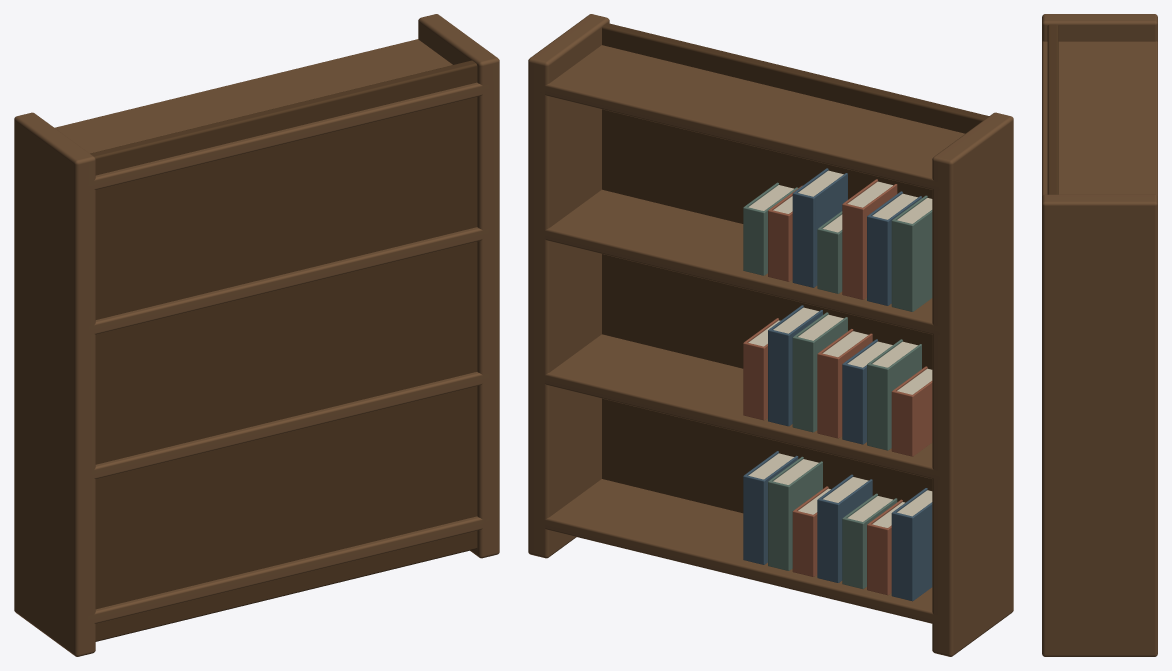
The model's file is bookshelf.glb.
3 renders of one model, left to right at view 1: azimuth 30°, elevation 25°; view 2: azimuth 150°, elevation 25°; view 3: azimuth 270°, elevation 25°, orthographic. The views are drawn at different scales.
Parts seen in each view (by area): view 1: Recessed back, Side, Shelf.003, Side.001, Shelf.002, Shelf, Shelf.001; view 2: Recessed back, Side, Side.001, Shelf.003, Shelf.002, Shelf.001, Shelf, Book spine.011, Book spine.018, Book spine.012, Book spine.016, Book spine.014 (+24 smaller); view 3: Side.001, Shelf.003, Side, Recessed back.
Part boxes in pixels (x1,y1,x2,y2): Recessed back: (90,60,477,641); Side: (14,112,95,656); Shelf.003: (54,39,488,190); Side.001: (418,14,499,558); Shelf.002: (89,227,488,334); Shelf: (88,516,488,623); Shelf.001: (92,372,488,478); Recessed back: (602,23,988,513); Side: (932,112,1013,656); Side.001: (528,14,609,558); Shelf.003: (539,45,964,189); Shelf.002: (541,189,939,334); Shelf.001: (543,334,939,479); Shelf: (539,479,939,623); Book spine.011: (792,336,815,432); Book spine.018: (792,192,815,287); Book spine.012: (768,329,790,426); Book spine.016: (842,203,864,299); Book spine.014: (891,219,914,311); Side.001: (1042,194,1157,656); Shelf.003: (1042,41,1157,196); Side: (1042,14,1157,41); Recessed back: (1047,24,1058,194).
Bounding box in the file's own units: 1.63 × 1.82 × 0.42.
